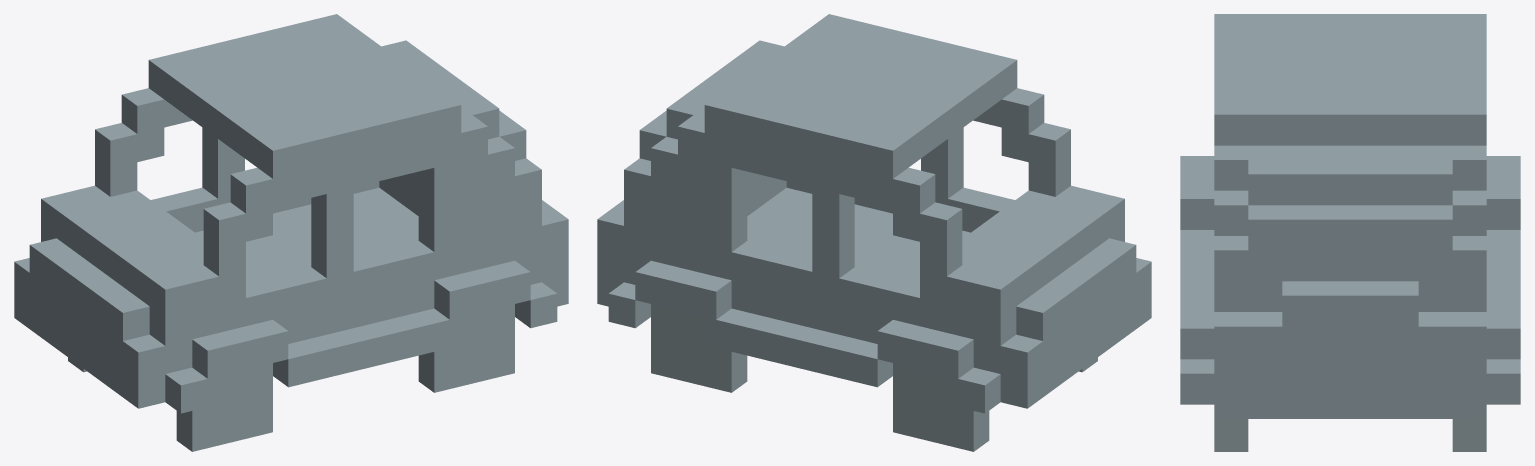
Rendered from toy_car.obj.
The picture shows the model from 3 angles, left to right: view 1: azimuth 30°, elevation 25°; view 2: azimuth 150°, elevation 25°; view 3: azimuth 270°, elevation 25°; orthographic projection. The views are drawn at different scales.
Bounding box in the file's own units: 1.6 × 1 × 1.
